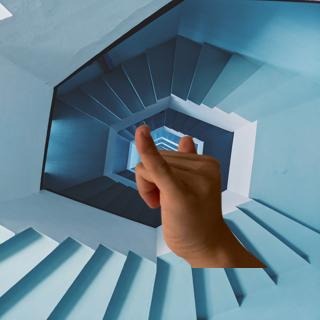HAVE: (118, 115, 248, 260)
